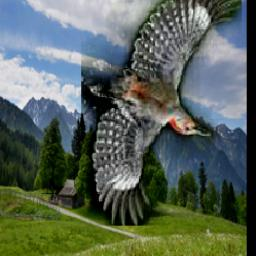Woodpecker: (81, 0, 242, 227)
